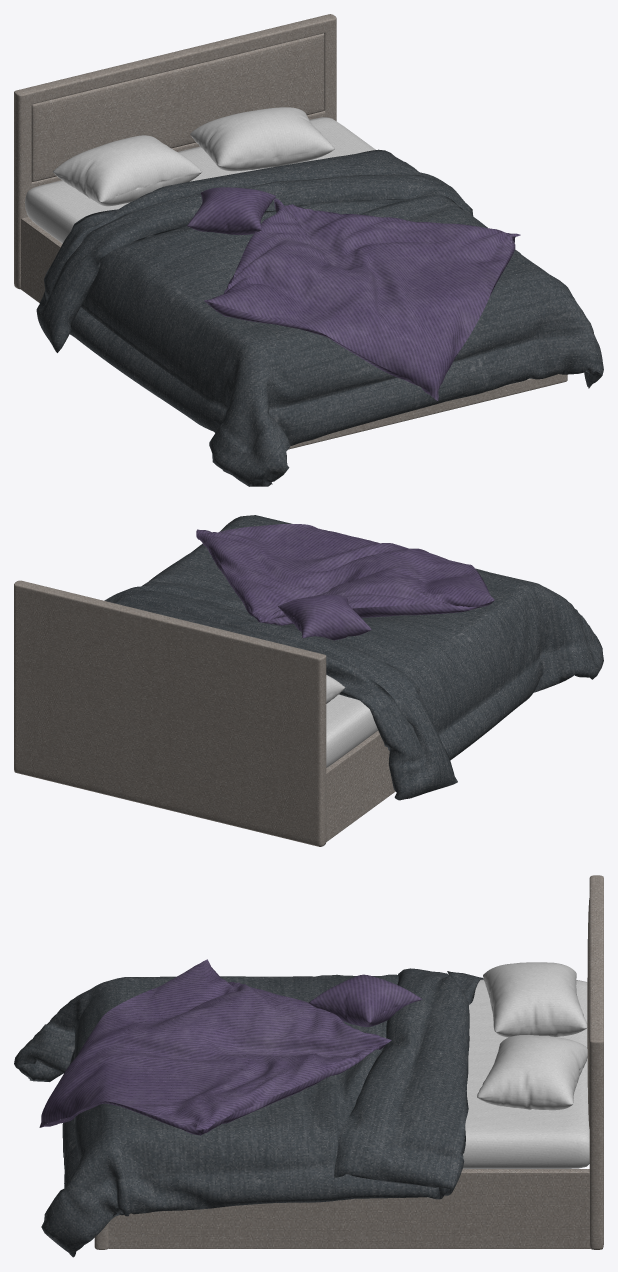
The picture shows the model from 3 angles, top to bottom: view 1: azimuth 30°, elevation 25°; view 2: azimuth 150°, elevation 25°; view 3: azimuth 270°, elevation 25°; orthographic projection. The views are drawn at different scales.
Parts seen in each view (by area): view 1: bed_04_02; view 2: bed_04_02; view 3: bed_04_02.
Part boxes in pixels (x1,y1,x2,y2): bed_04_02: (14, 14, 603, 486); bed_04_02: (14, 515, 603, 846); bed_04_02: (14, 875, 603, 1257).
Size of the model in its own units: 2.07 by 0.9879 by 2.48.
1 material, 1 textured.
